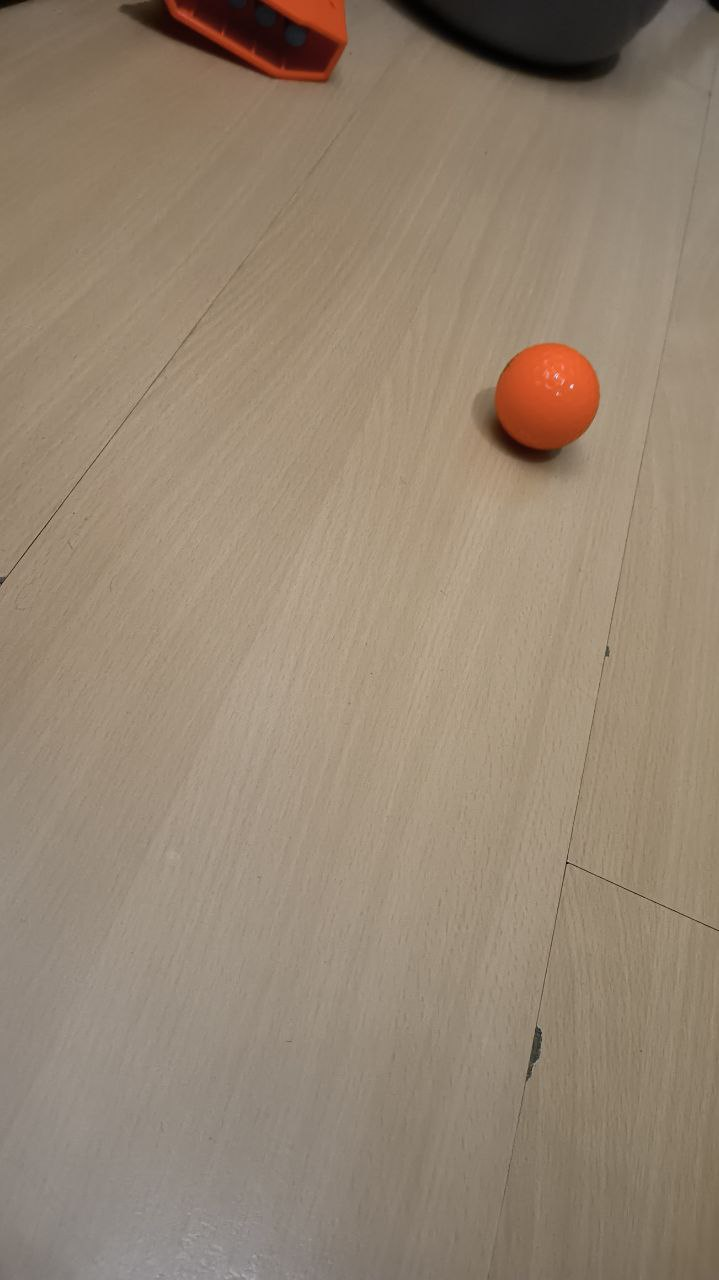orange_ball: (495, 343, 601, 450)
